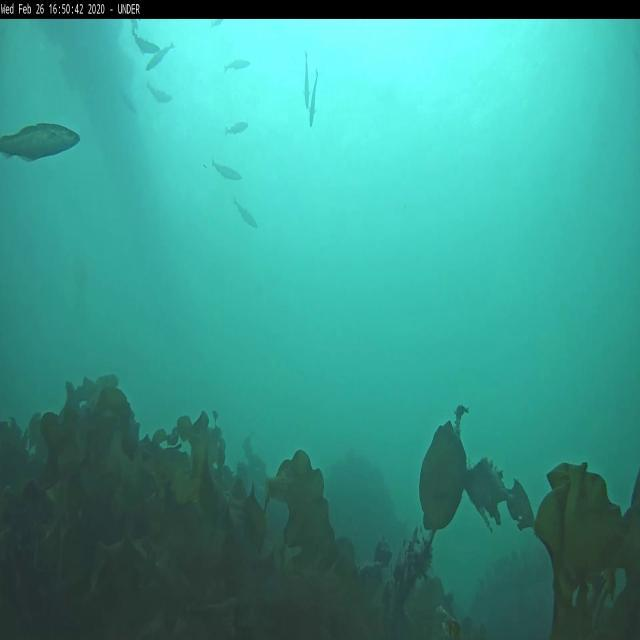fish: (0, 122, 85, 162), (144, 40, 176, 74), (234, 202, 258, 230), (212, 160, 240, 184), (146, 81, 170, 107), (223, 118, 250, 140), (309, 72, 319, 126), (222, 56, 248, 74), (302, 50, 309, 106), (135, 34, 158, 51)
